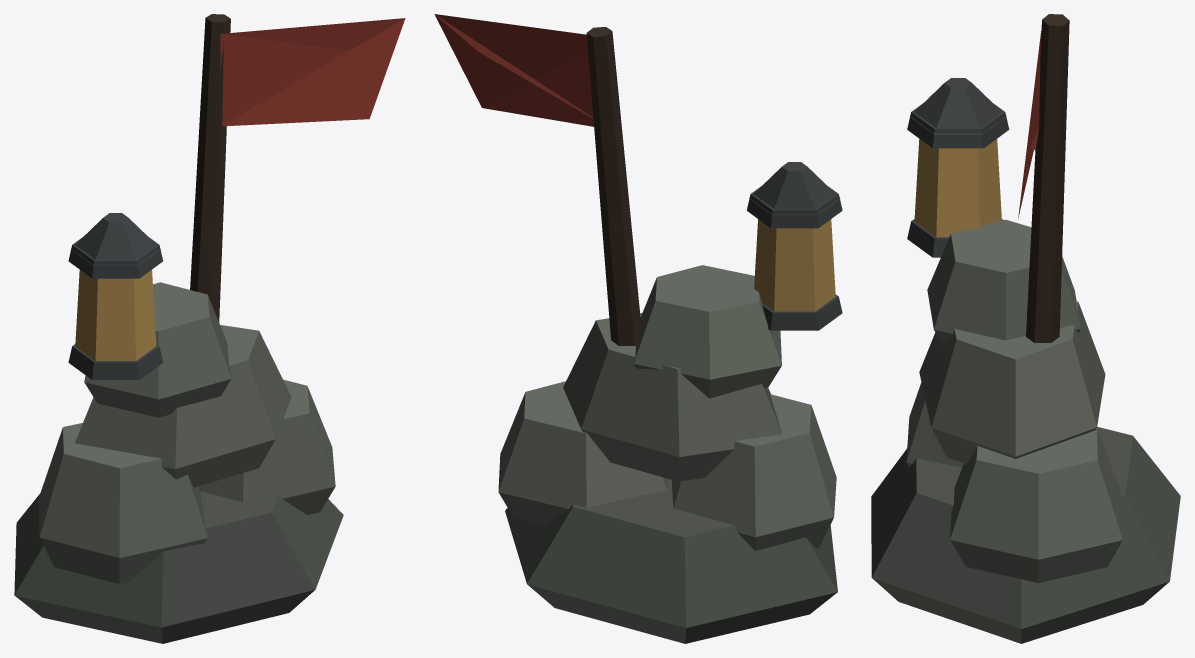
Rendered from signal-cairn.glb.
The picture shows the model from 3 angles, left to right: view 1: azimuth 30°, elevation 25°; view 2: azimuth 150°, elevation 25°; view 3: azimuth 270°, elevation 25°; orthographic projection. The views are drawn at different scales.
Visible parts, largest first — view 1: Red flag signal cairn; view 2: Red flag signal cairn; view 3: Red flag signal cairn.
Part boxes in pixels (x1,y1,x2,y2): Red flag signal cairn: (14,14,405,643); Red flag signal cairn: (434,14,842,643); Red flag signal cairn: (871,14,1180,643).
Size of the model in its own units: 0.8563 by 1.12 by 0.5393.
